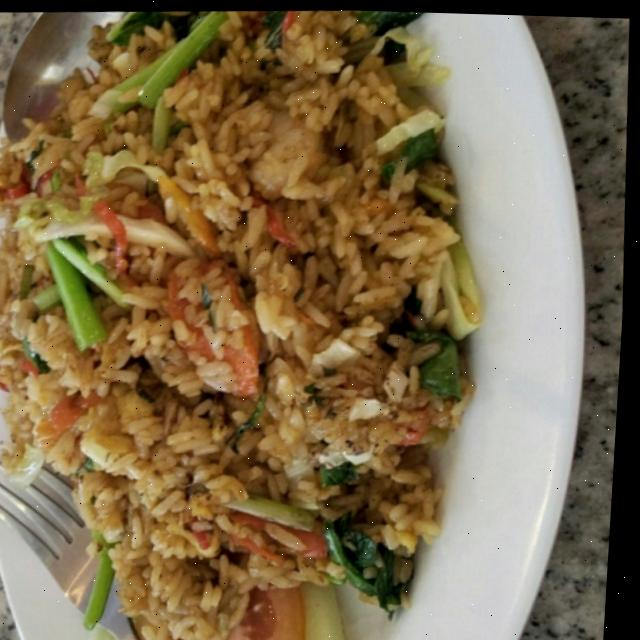米饭主食: (0, 5, 590, 640)
